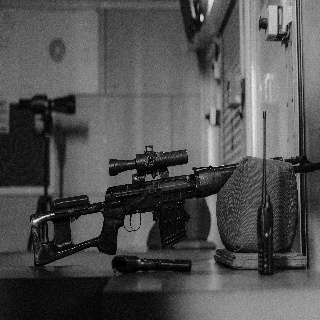pistol: (110, 253, 194, 277)
rifle: (30, 143, 320, 266)
